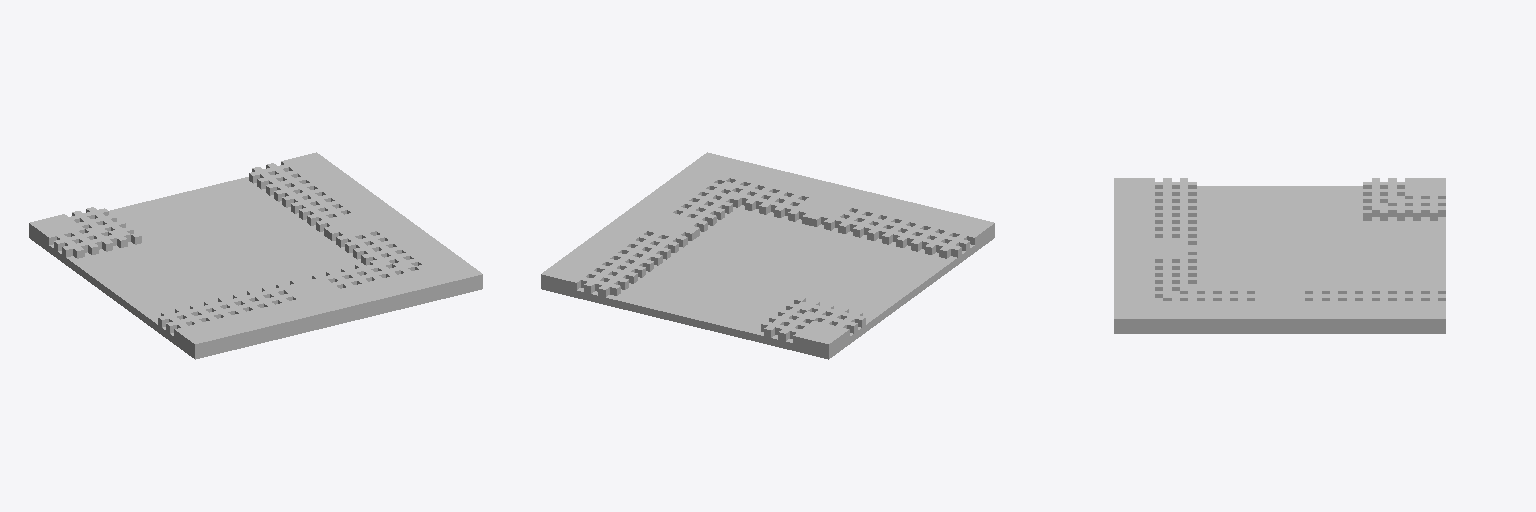
Rendered from Street_01_Corner.obj.
3 renders of one model, left to right at view 1: azimuth 30°, elevation 25°; view 2: azimuth 150°, elevation 25°; view 3: azimuth 270°, elevation 25°, orthographic.
Parts seen in each view (by area): view 1: Street_01.002; view 2: Street_01.002; view 3: Street_01.002.
Boxes of the visible parts, box(x1,y1,x2,y2) form: Street_01.002: box(29, 152, 482, 359); Street_01.002: box(541, 152, 994, 359); Street_01.002: box(1114, 178, 1445, 333).
Bounding box in the file's own units: 4 × 0.2 × 4.